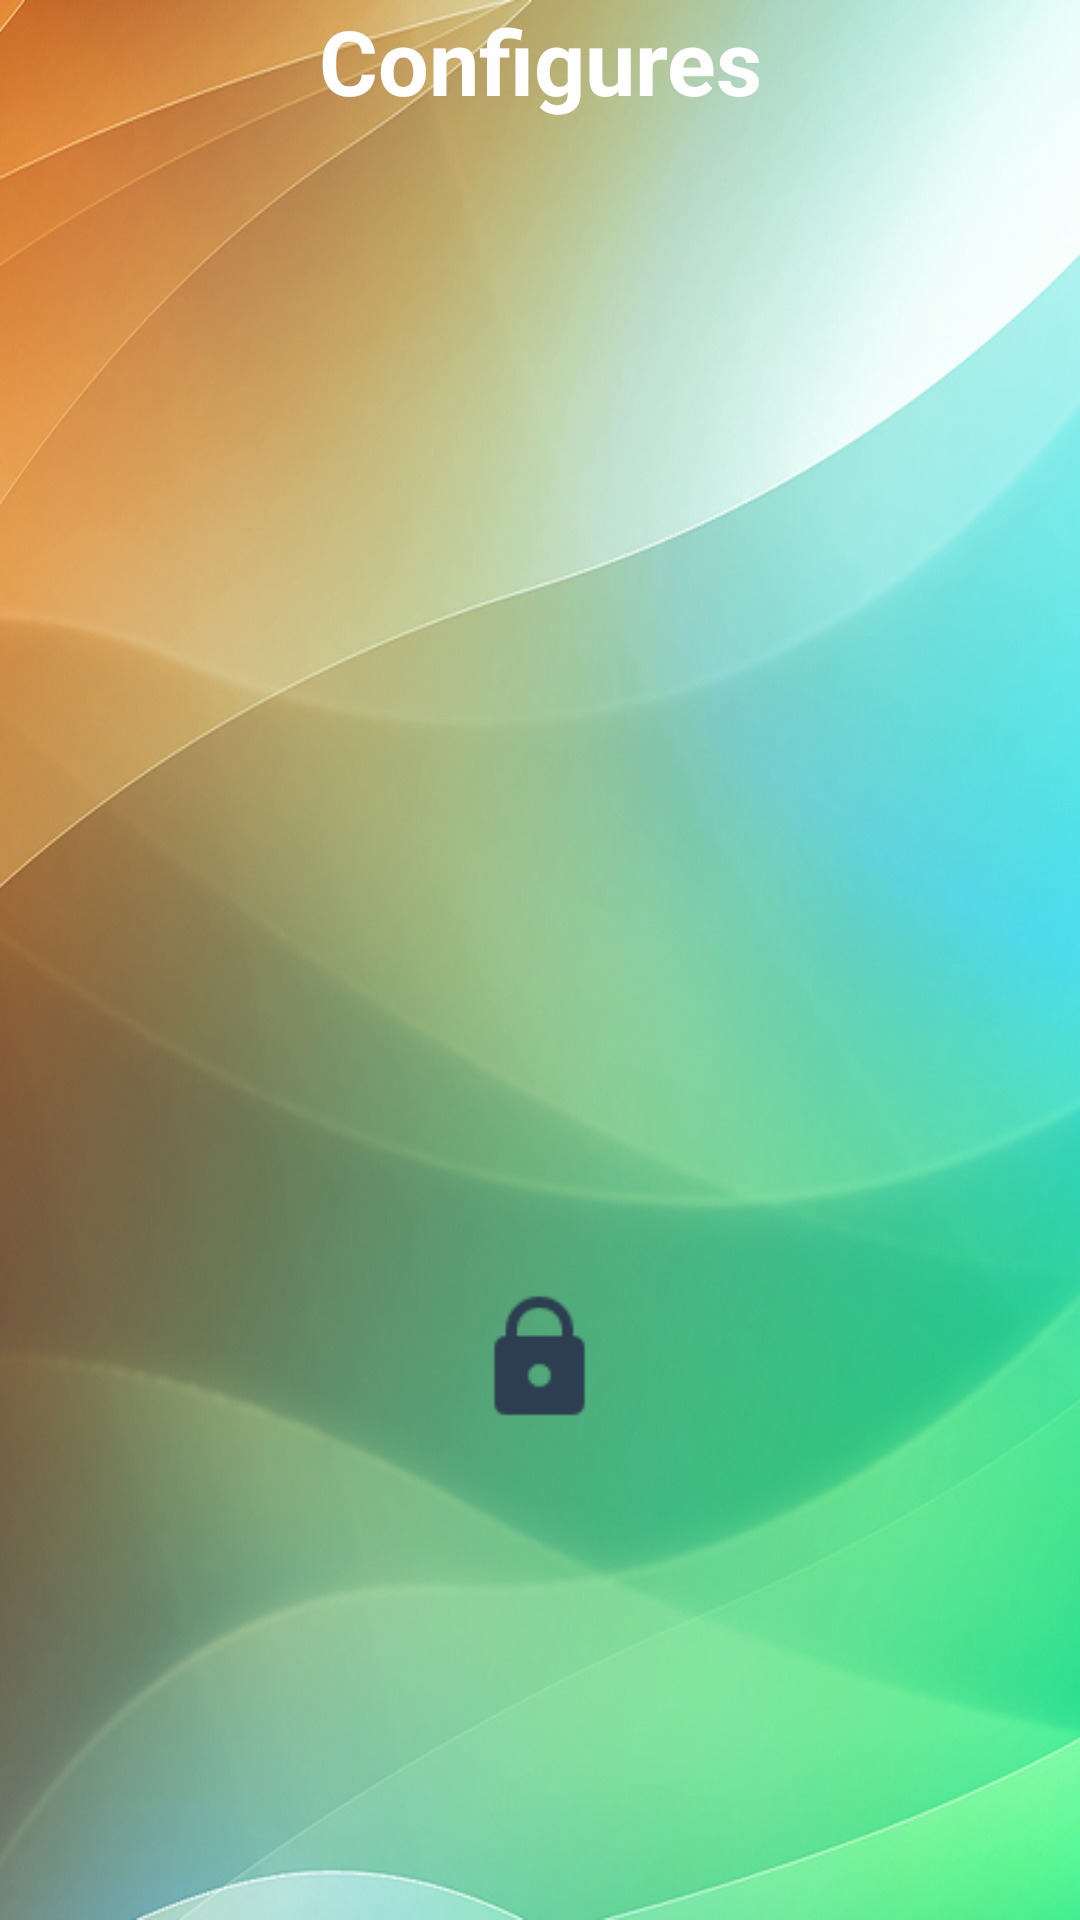

Where to tap for icons on this 1080w x 1920h app screen, as (x=x, y=y):
lockclose: (x=539, y=1356)
